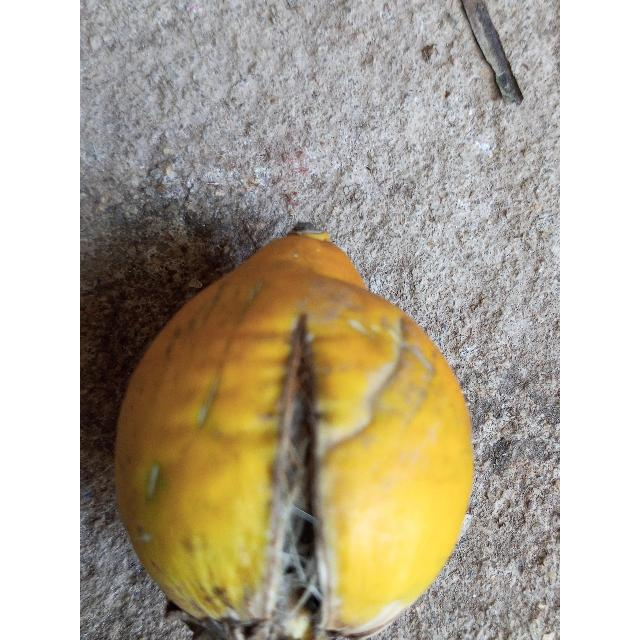damaged: (114, 229, 475, 640)
